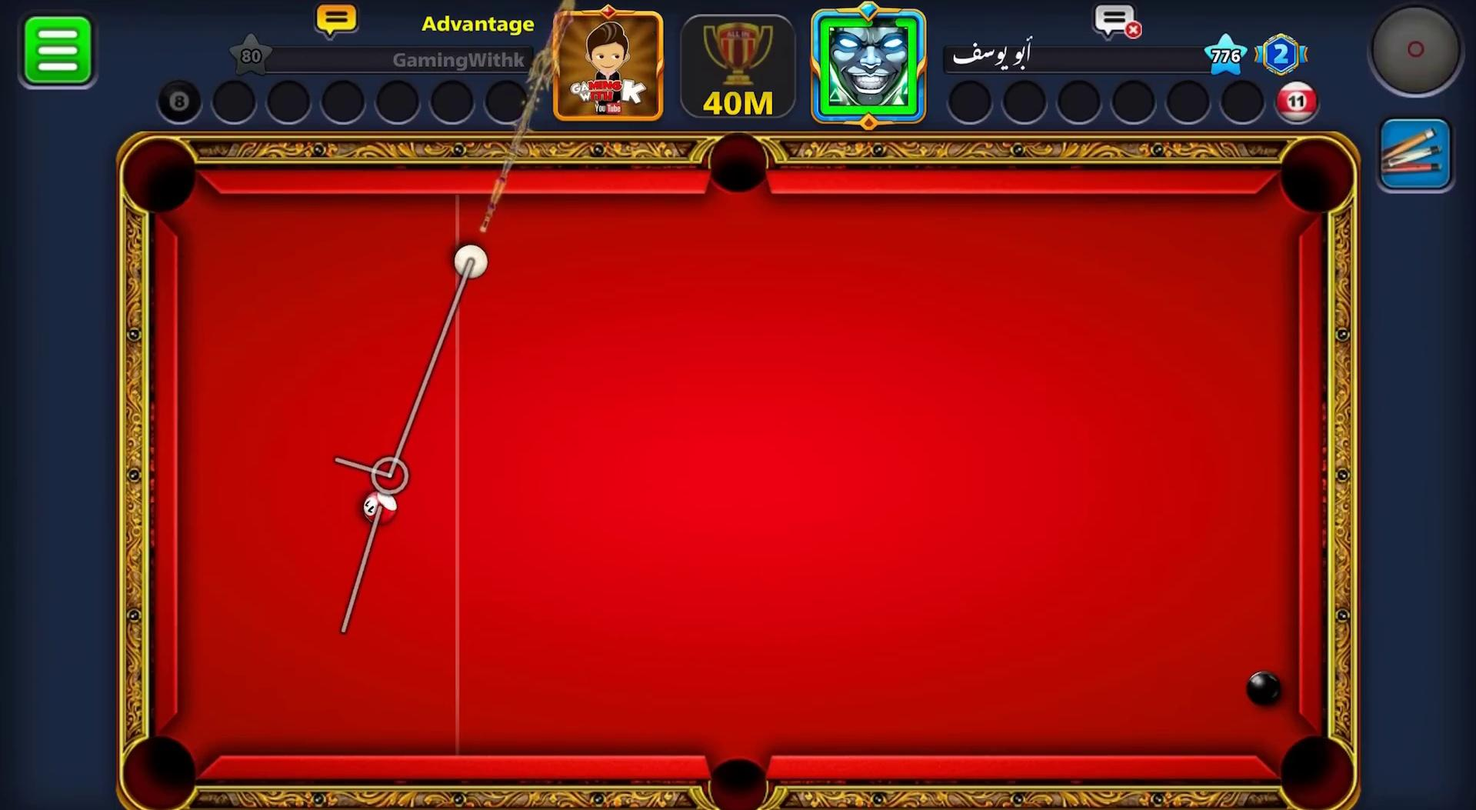Ball: (1237, 662, 1294, 709), (357, 485, 398, 533)
Guideline: (322, 259, 481, 642)
Hole: (1255, 718, 1372, 809), (1278, 136, 1355, 216), (122, 135, 198, 212), (122, 732, 199, 808), (707, 132, 768, 193), (705, 755, 769, 809)
Play_Area: (182, 193, 1293, 758)
Spin: (1365, 2, 1471, 104)
White: (450, 241, 488, 280)
